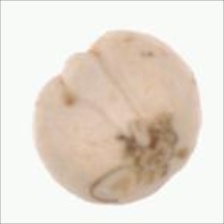L5: (56, 48, 142, 132), (114, 114, 191, 183)
L6: (32, 28, 202, 206)
